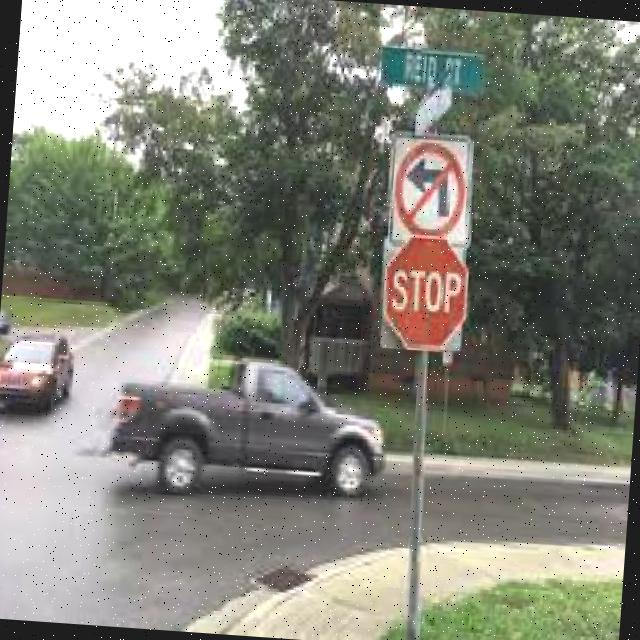Stop: (379, 235, 473, 354)
